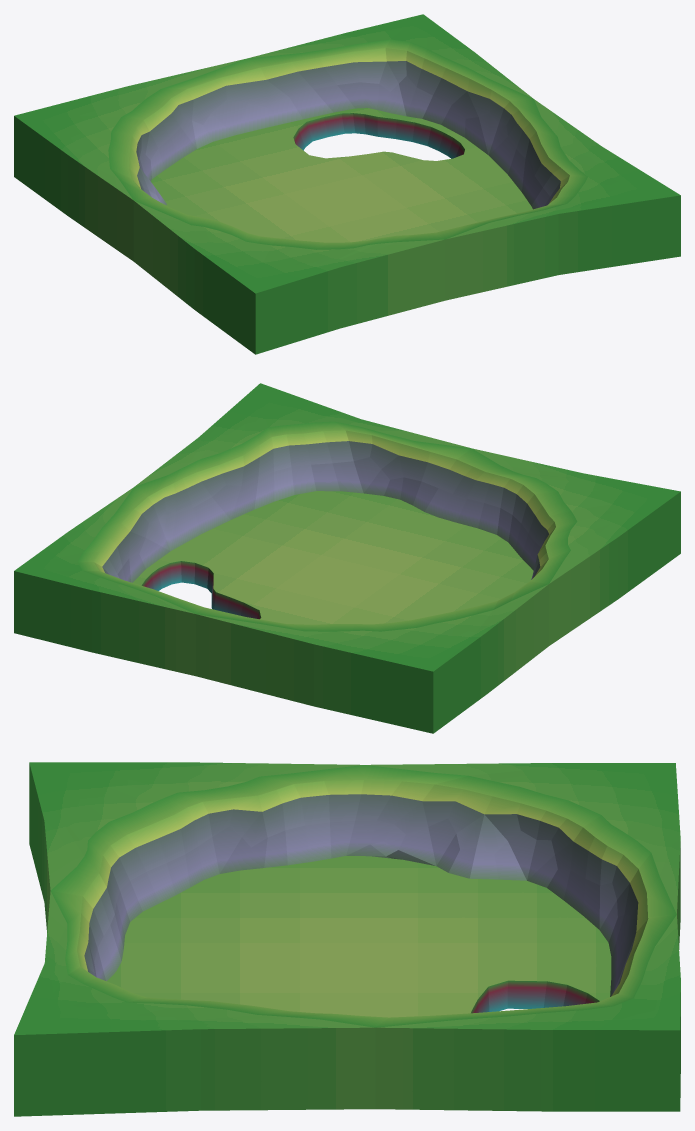
File: terrain.glb
3 renders of one model, top to bottom at view 1: azimuth 30°, elevation 25°; view 2: azimuth 150°, elevation 25°; view 3: azimuth 270°, elevation 25°, orthographic. The views are drawn at different scales.
Parts seen in each view (by area): view 1: Plane.022, Plane.021; view 2: Plane.022, Plane.021; view 3: Plane.022, Plane.021.
Boxes of the visible parts, x1,y1,x2,y2 form: Plane.022: [14, 14, 680, 354]; Plane.021: [151, 108, 532, 242]; Plane.022: [14, 383, 680, 733]; Plane.021: [133, 491, 533, 624]; Plane.022: [14, 762, 680, 1116]; Plane.021: [107, 856, 611, 1017].
Bounding box in the file's own units: 93.37 × 14.5 × 96.43.
1 material, 1 textured.
